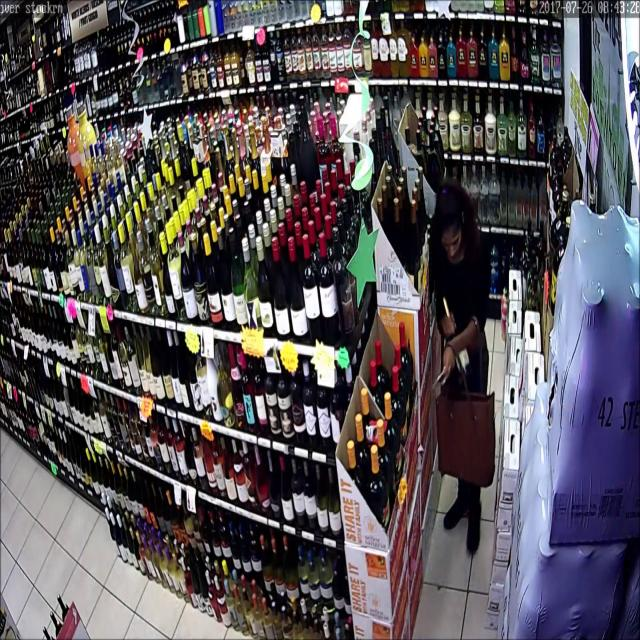Product: (439, 289, 468, 384)
shoplifting: (410, 172, 524, 551)
